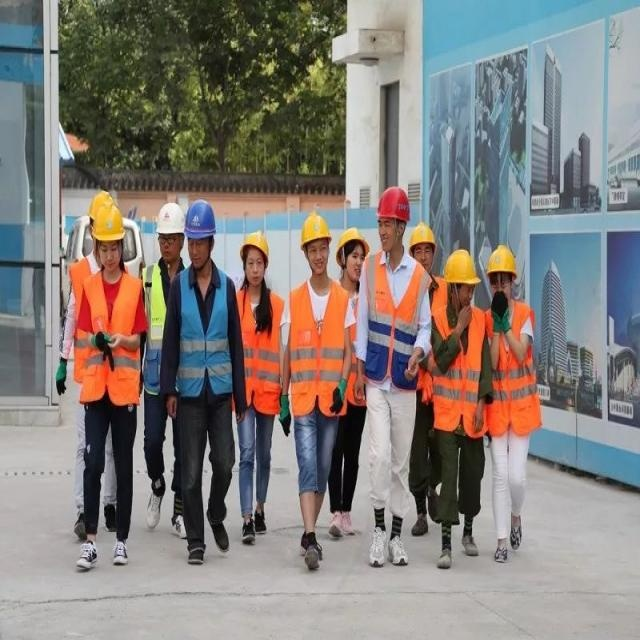Con_Chaleco: (285, 275, 351, 419), (78, 269, 142, 410), (361, 257, 427, 388), (482, 306, 537, 438)
